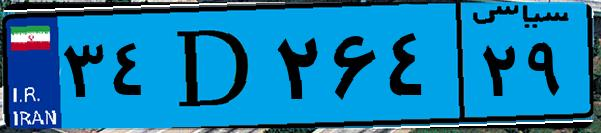2: (270, 28, 330, 110), (475, 38, 525, 113)
3: (57, 26, 110, 100)
4: (385, 28, 445, 110), (110, 28, 158, 98)
6: (330, 28, 385, 110)
9: (525, 38, 570, 115)
D: (158, 12, 270, 120)
